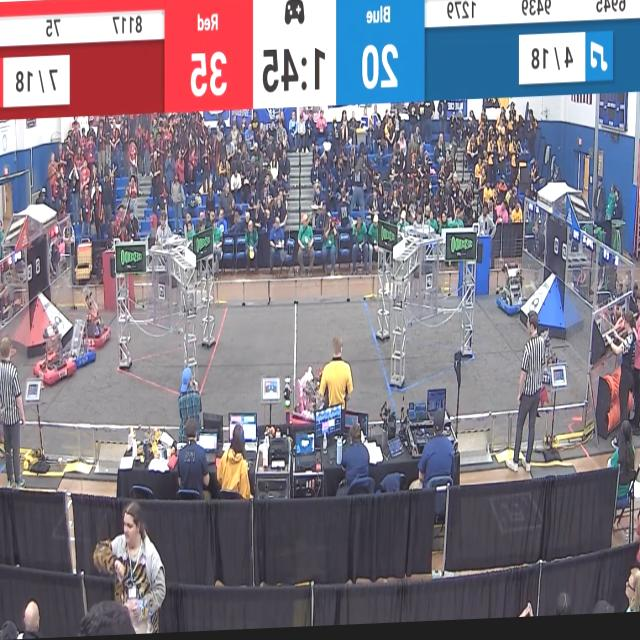Robot: (32, 307, 78, 390), (289, 362, 332, 434), (79, 282, 111, 353), (497, 265, 528, 323)
